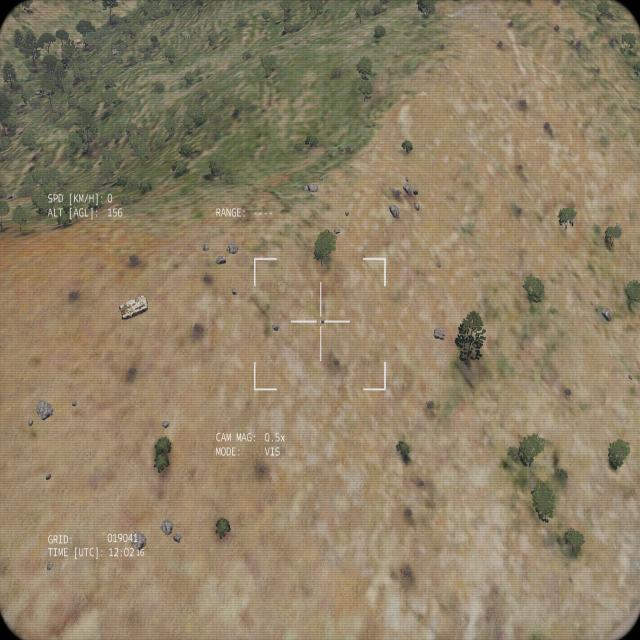tank: (111, 294, 148, 322)
